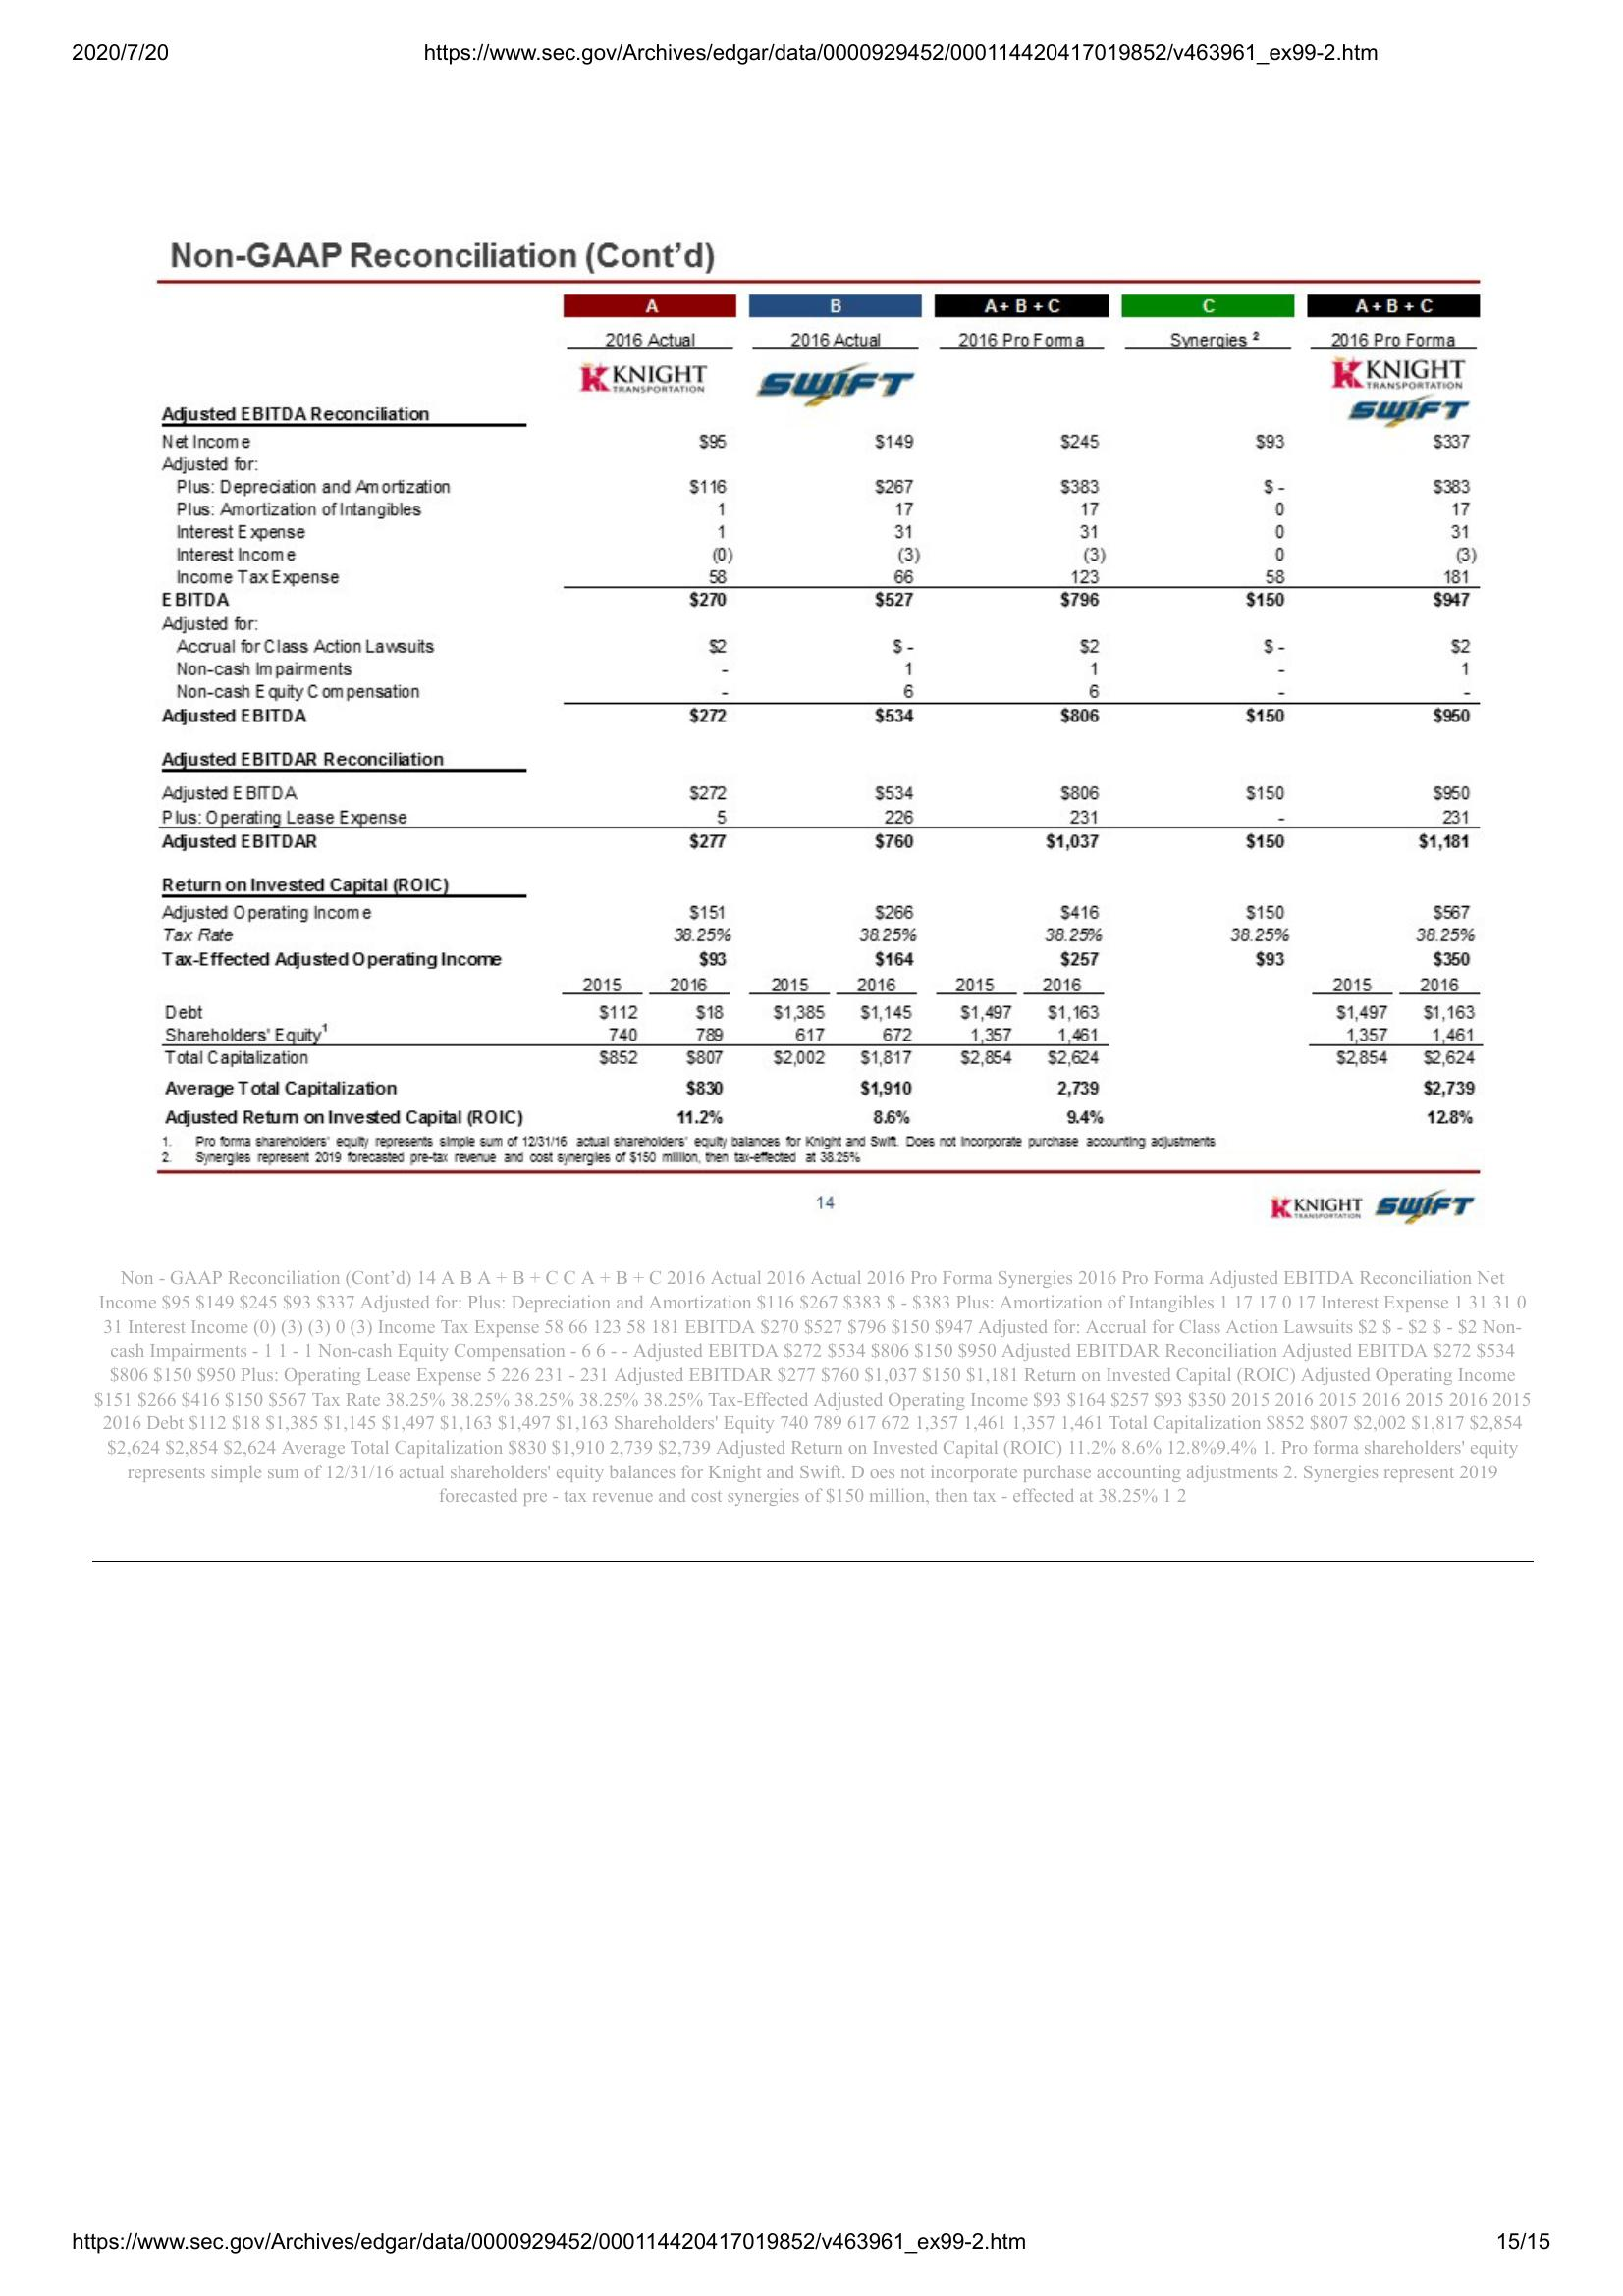table: (144, 293, 1486, 1137)
